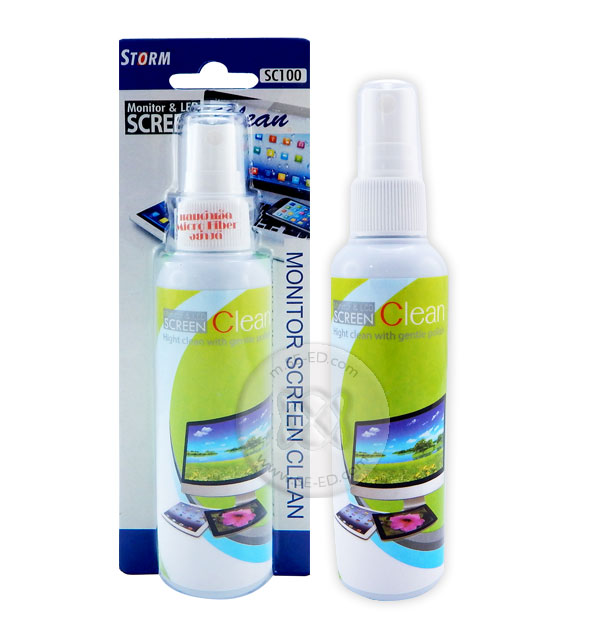Cleaning_solution: (327, 68, 453, 607), (148, 110, 276, 606)
